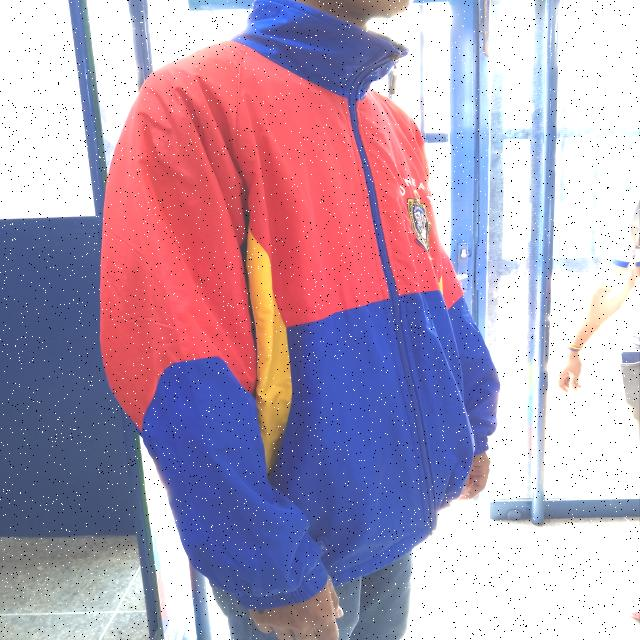chaqueta_unefa: (98, 0, 502, 610)
